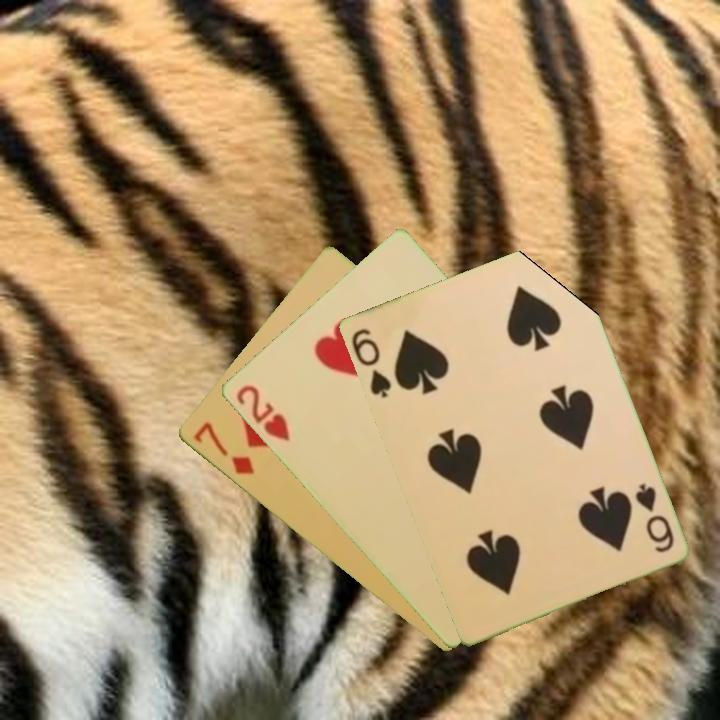2h: (232, 381, 293, 445)
6s: (347, 324, 394, 401), (630, 479, 677, 556)
7d: (189, 418, 257, 478)
